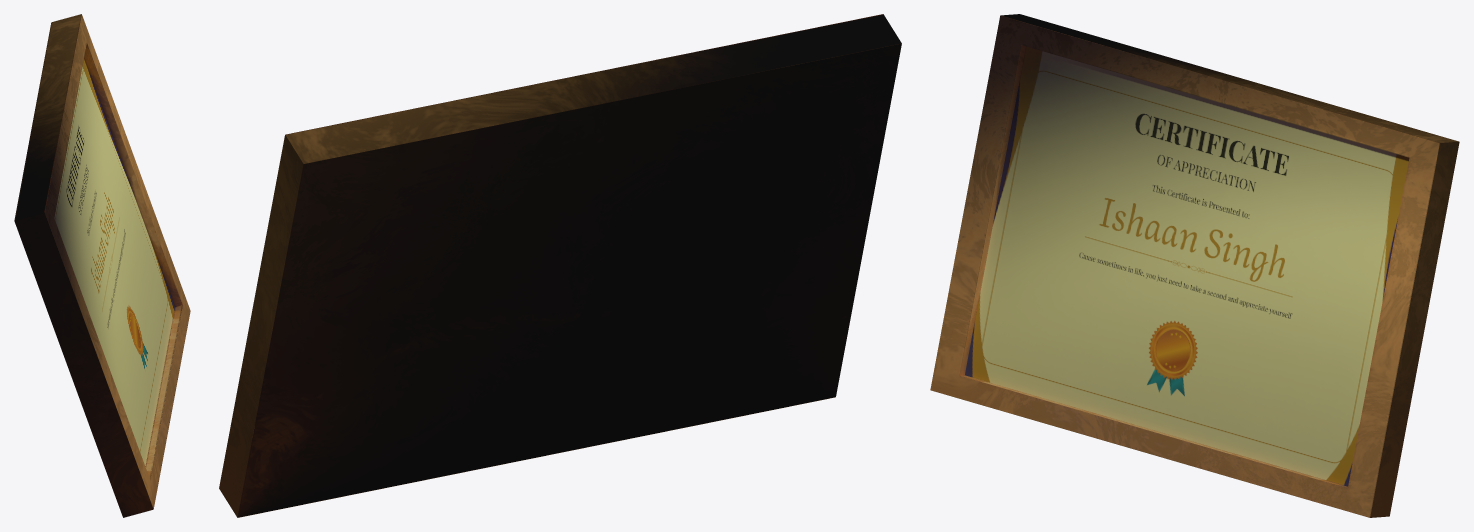
Rendered from certificate.glb.
3 renders of one model, left to right at view 1: azimuth 30°, elevation 25°; view 2: azimuth 150°, elevation 25°; view 3: azimuth 270°, elevation 25°, orthographic. The views are drawn at different scales.
Visible parts, largest first — view 1: Certificate; view 2: Certificate; view 3: Certificate.
Part boxes in pixels (x1,y1,x2,y2): Certificate: [14, 14, 190, 517]; Certificate: [219, 14, 901, 517]; Certificate: [930, 14, 1459, 517].
Bounding box in the file's own units: 0.2351 × 0.2053 × 0.2877.
2 materials, 2 textured.
